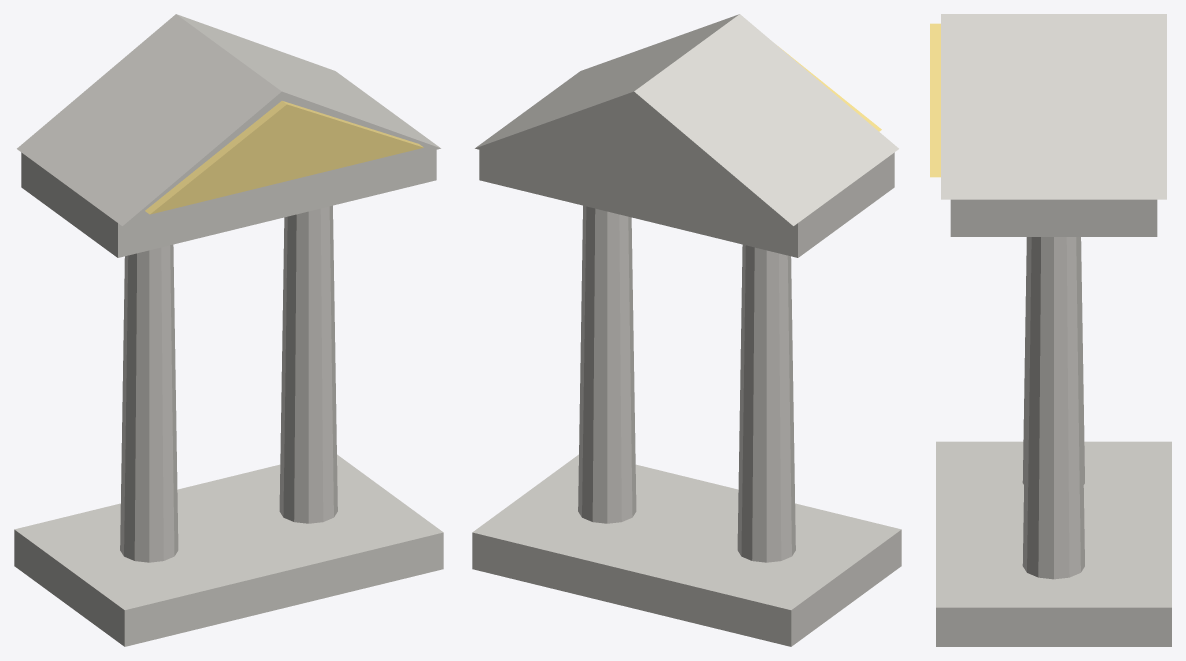
Rendered from mythic-underworld-and-olympus-colonnade-pediment-55ca30ce__21378.glb.
The picture shows the model from 3 angles, left to right: view 1: azimuth 30°, elevation 25°; view 2: azimuth 150°, elevation 25°; view 3: azimuth 270°, elevation 25°; orthographic projection. The views are drawn at different scales.
Parts seen in each view (by area): view 1: colonnade-pediment; view 2: colonnade-pediment; view 3: colonnade-pediment.
Boxes of the visible parts, bbox=[...] form: colonnade-pediment: bbox=[14, 14, 443, 646]; colonnade-pediment: bbox=[472, 14, 901, 646]; colonnade-pediment: bbox=[930, 14, 1171, 646].
Size of the model in its own units: 4 by 6.17 by 2.46.
